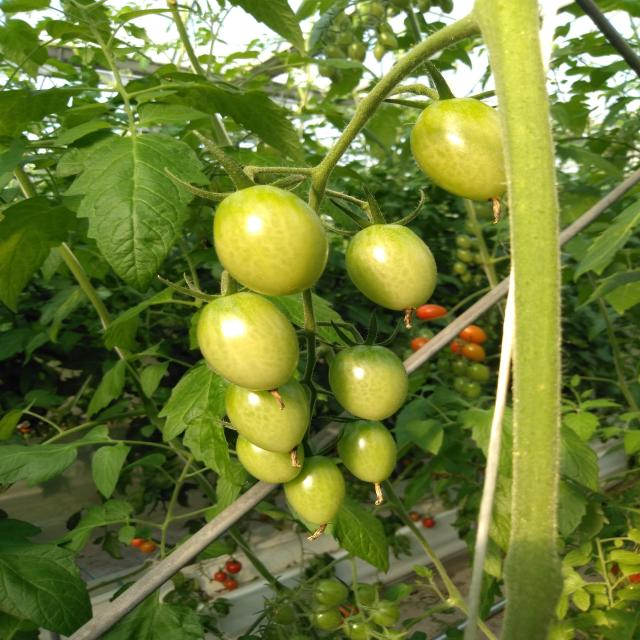yesil: (166, 192, 417, 428)
